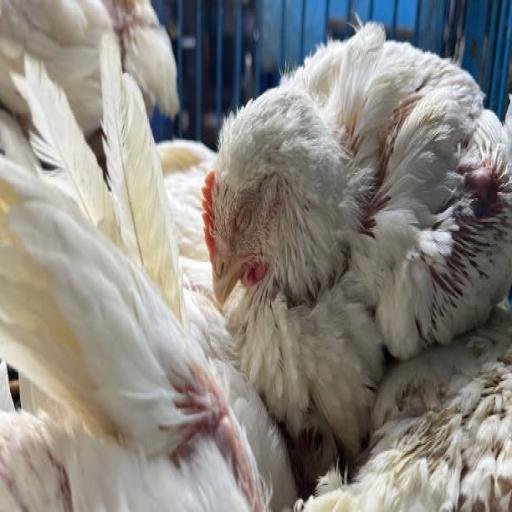disease: (225, 173, 264, 260)
